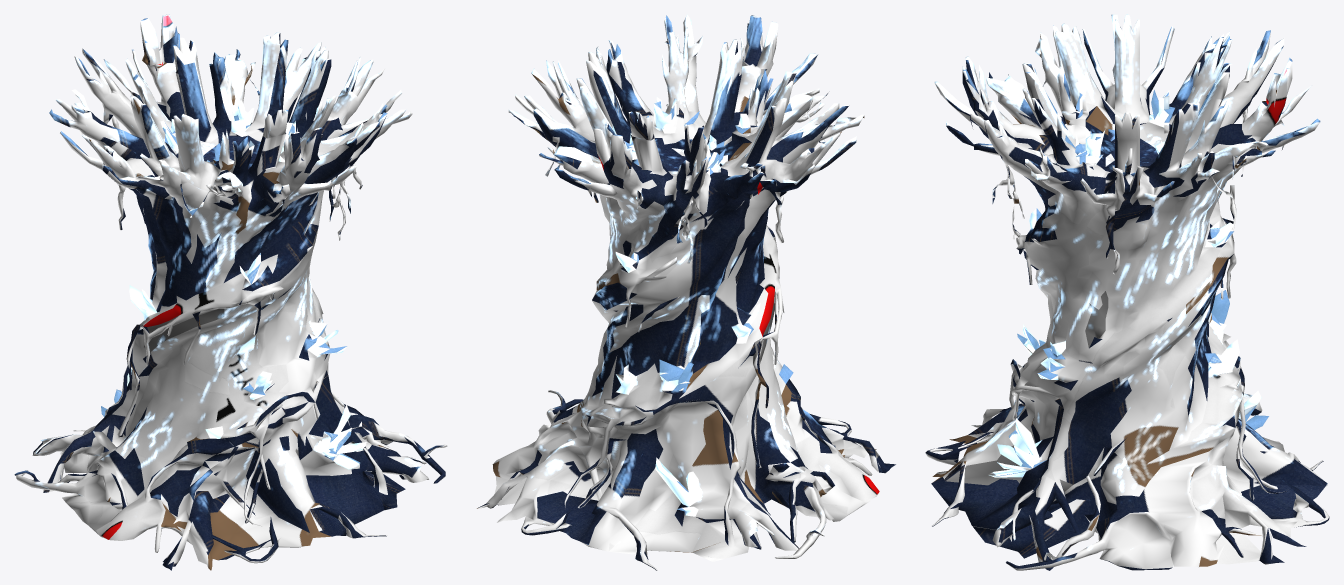
The model's file is Ability_TriffidPillar_Mesh.fbx.
3 renders of one model, left to right at view 1: azimuth 30°, elevation 25°; view 2: azimuth 150°, elevation 25°; view 3: azimuth 270°, elevation 25°, orthographic. The views are drawn at different scales.
Parts seen in each view (by area): view 1: world; view 2: world; view 3: world.
Boxes of the visible parts, x1,y1,x2,y2 form: world: (14, 14, 447, 570); world: (477, 14, 895, 570); world: (925, 14, 1329, 570).
Size of the model in its own units: 89.96 by 100 by 84.74.
